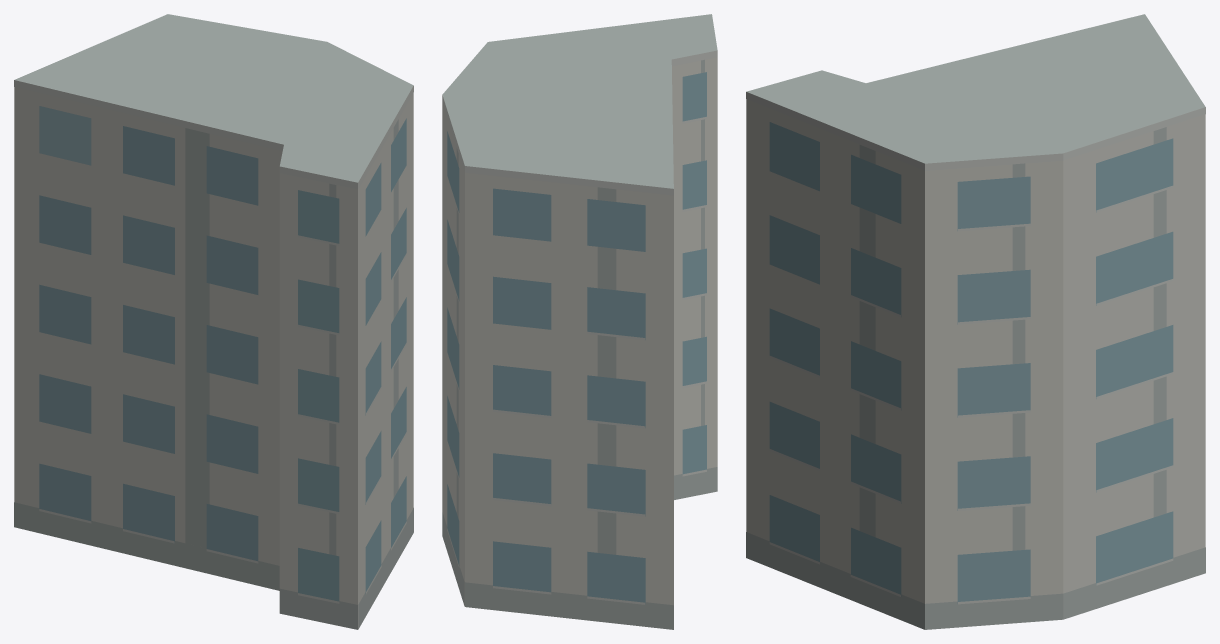
The model's file is survey-upis-32504487.glb.
3 views of the same model, side by side, from view 1: azimuth 30°, elevation 25°; view 2: azimuth 150°, elevation 25°; view 3: azimuth 270°, elevation 25° (orthographic). The views are drawn at different scales.
Visible parts, largest first — view 1: survey-upis-32504487.tmp; view 2: survey-upis-32504487.tmp; view 3: survey-upis-32504487.tmp.
Part boxes in pixels (box(x1,y1,x2,y2)): survey-upis-32504487.tmp: box(14, 14, 413, 629); survey-upis-32504487.tmp: box(442, 14, 717, 629); survey-upis-32504487.tmp: box(746, 14, 1205, 629).
Bounding box in the file's own units: 10.89 × 15.8 × 14.13.
